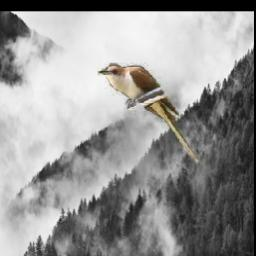Cuckoo: (98, 63, 199, 163)
